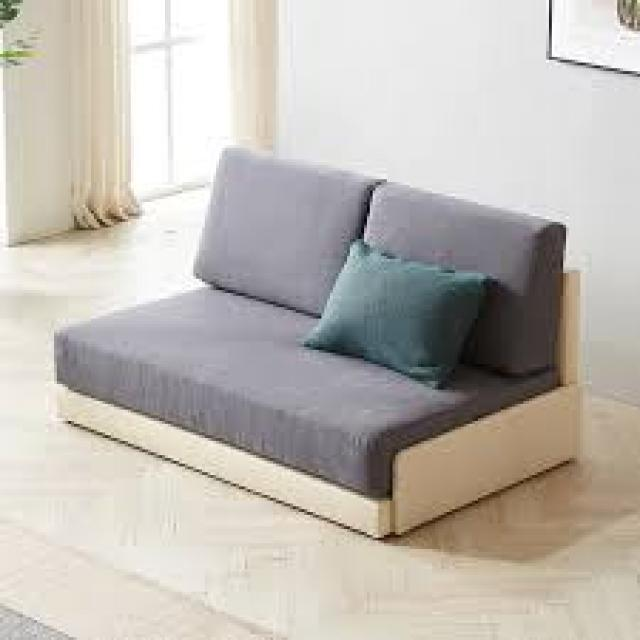Sofa: (22, 134, 625, 553)
